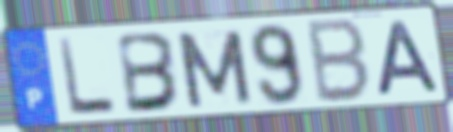9: (245, 20, 307, 108)
A: (373, 18, 444, 98)
B: (305, 16, 373, 105), (115, 30, 184, 117)
L: (55, 36, 119, 119)
M: (172, 27, 256, 110)
